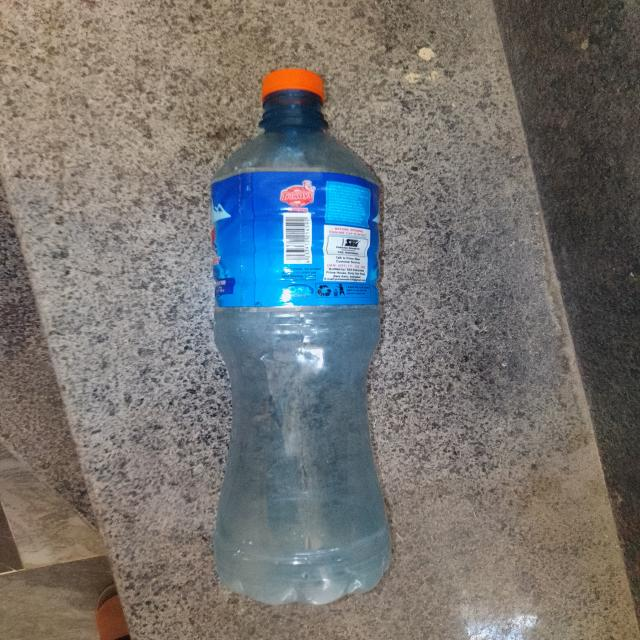bottle: (186, 56, 427, 611)
cap: (254, 65, 328, 104)
label: (203, 164, 394, 314)
